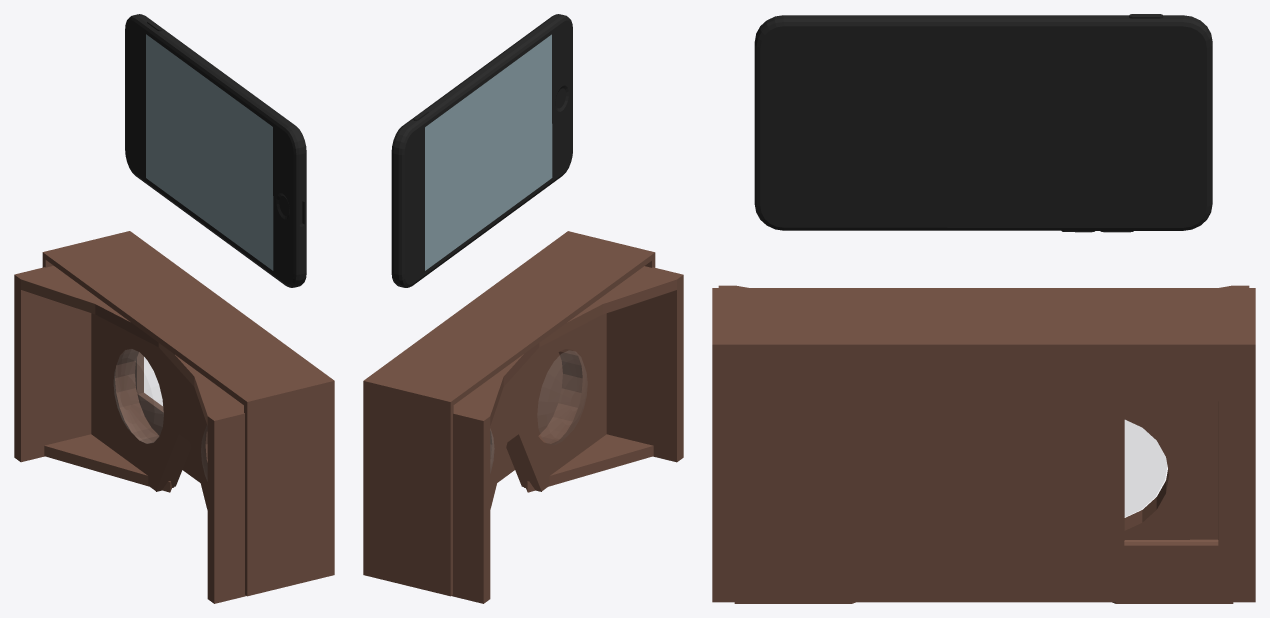
Rendered from Cardboard-extended-phone-bezier2.gltf.
3 renders of one model, left to right at view 1: azimuth 30°, elevation 25°; view 2: azimuth 150°, elevation 25°; view 3: azimuth 270°, elevation 25°, orthographic. The views are drawn at different scales.
Parts seen in each view (by area): view 1: Google:pCube58.001, iPhone, Google:pCube58, Cube, Cylinder; view 2: Google:pCube58.001, iPhone, Google:pCube58, Cube, Cylinder.002; view 3: Google:pCube58.001, iPhone, Cube, Cylinder.
Part boxes in pixels (x1,y1,x2,y2): Google:pCube58.001: (42,231,334,596); iPhone: (125,14,306,287); Google:pCube58: (14,266,246,603); Cube: (91,313,207,509); Cylinder: (114,349,163,443); Google:pCube58.001: (363,231,655,596); iPhone: (391,14,572,287); Google:pCube58: (451,266,683,603); Cube: (490,313,606,509); Cylinder.002: (538,351,586,444); Google:pCube58.001: (712,288,1255,602); iPhone: (754,14,1212,232); Cube: (1124,401,1217,539); Cylinder: (1125,421,1166,516).
Bounding box in the file's own units: 26.05 × 92.04 × 78.31.
Materials: 3 (1 with a texture image).
